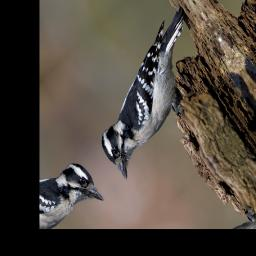Woodpecker: (70, 4, 234, 184)
